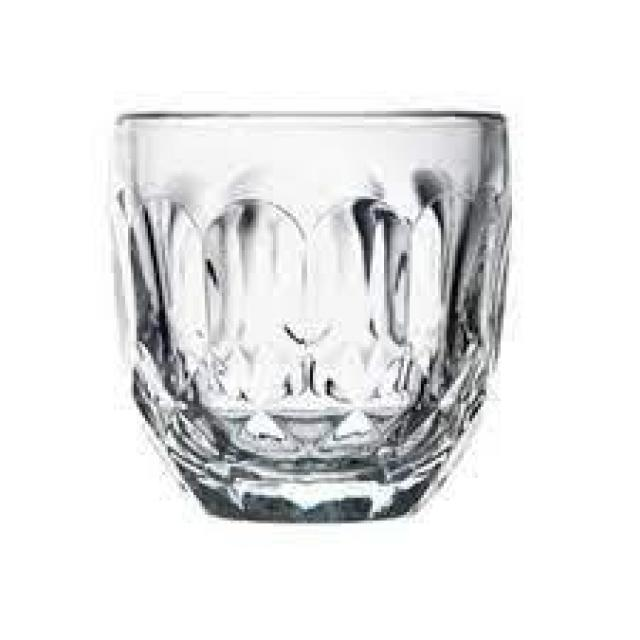non-organic waste: (104, 108, 516, 526)
